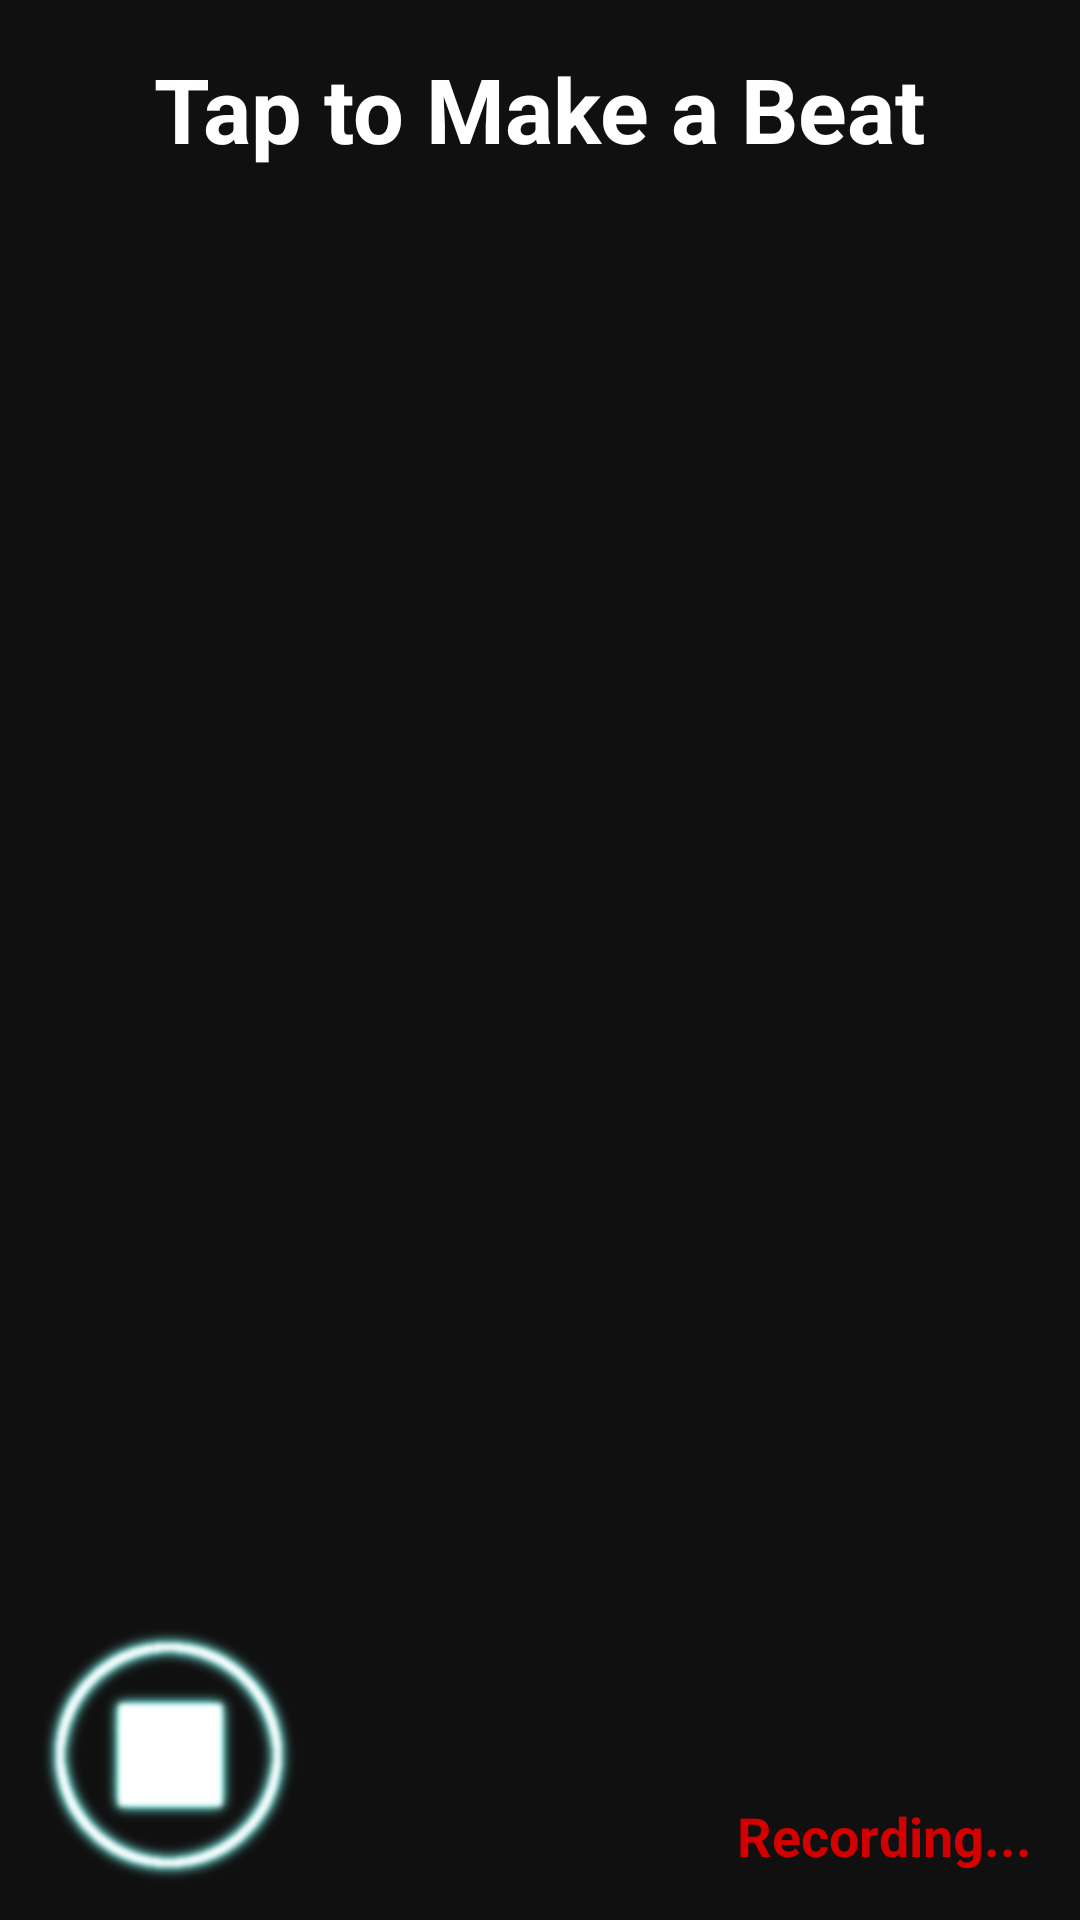

Icon bounding boxes for this 1080px x 1920px phone screenshot, format (left=x1, top=y1, right=x2, bottom=y2):
stop: (left=47, top=1634, right=290, bottom=1876)
